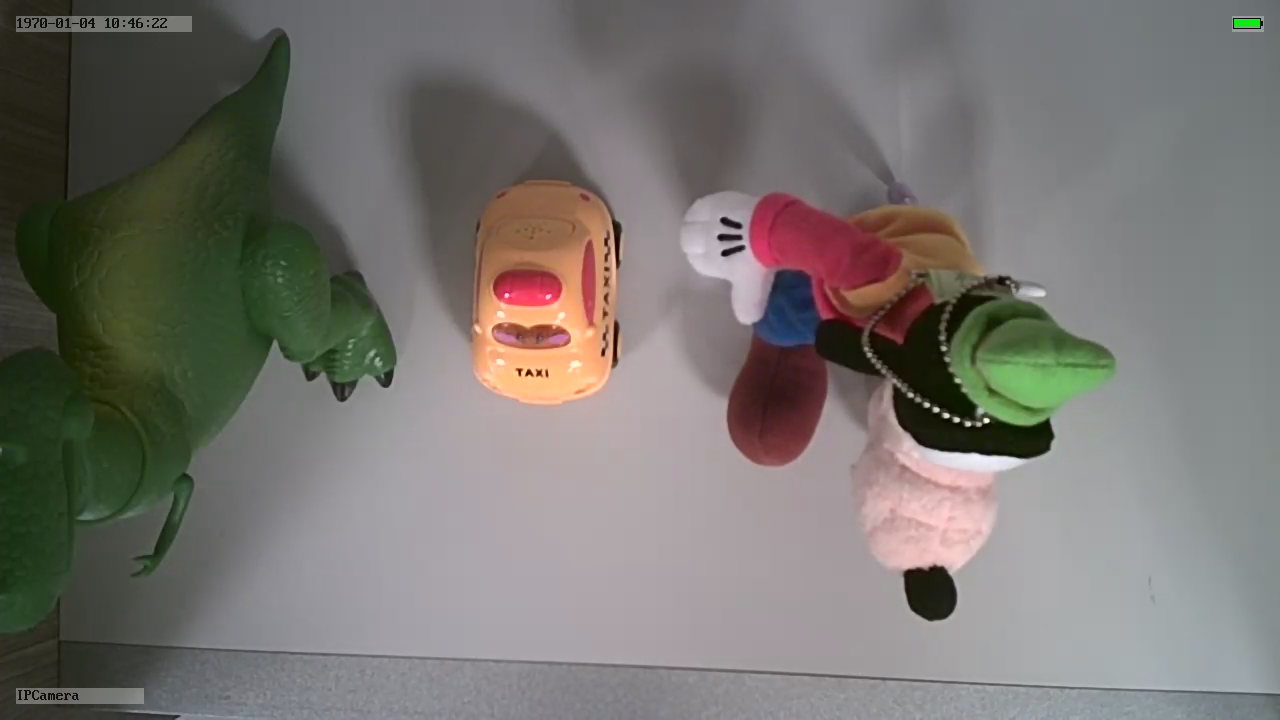goofy: (674, 185, 1119, 637)
